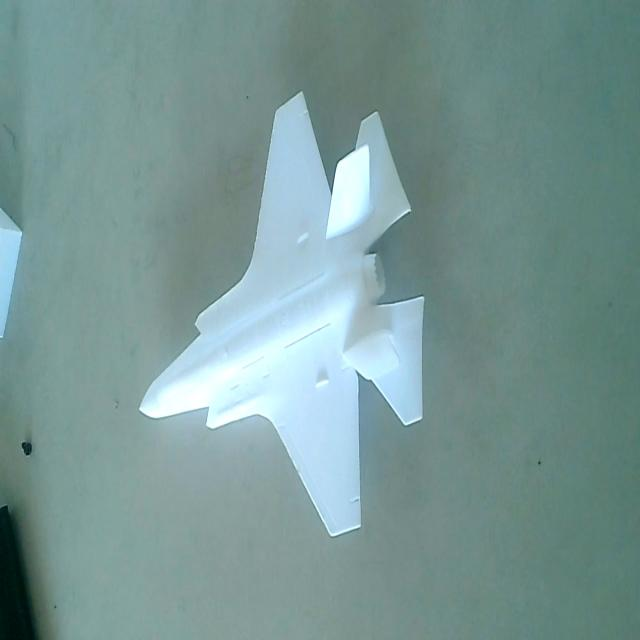Jet: (133, 88, 431, 542)
